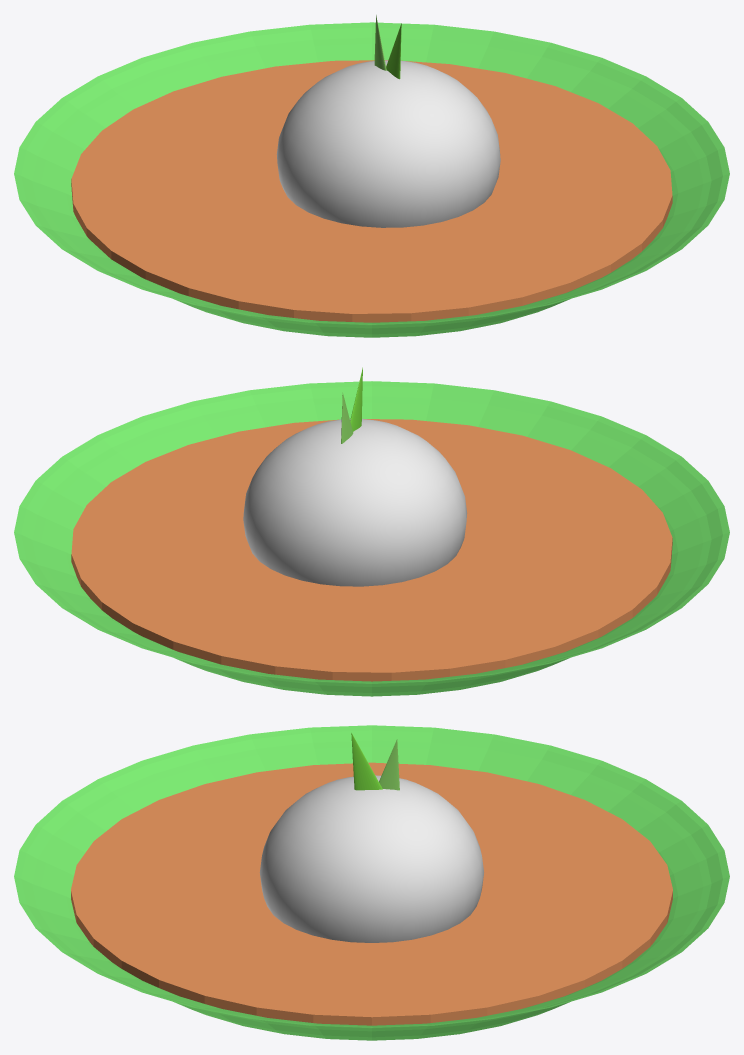
Rendered from ketan kinca.fbx.
3 renders of one model, top to bottom at view 1: azimuth 30°, elevation 25°; view 2: azimuth 150°, elevation 25°; view 3: azimuth 270°, elevation 25°, orthographic.
Visible parts, largest first — view 1: Cylinder.001, Cylinder, Sphere; view 2: Cylinder.001, Cylinder, Sphere; view 3: Cylinder.001, Cylinder, Sphere, Cone, Cone.001.
Part boxes in pixels (bbox=[...]): Cylinder.001: bbox=[71, 60, 672, 322]; Cylinder: bbox=[14, 22, 729, 337]; Sphere: bbox=[276, 60, 500, 227]; Cylinder.001: bbox=[71, 419, 672, 681]; Cylinder: bbox=[14, 381, 729, 696]; Sphere: bbox=[243, 419, 467, 586]; Cylinder.001: bbox=[71, 762, 672, 1025]; Cylinder: bbox=[14, 725, 729, 1040]; Sphere: bbox=[259, 775, 484, 942]; Cone: bbox=[351, 733, 382, 790]; Cone.001: bbox=[379, 739, 399, 790].
Bounding box in the file's own units: 231 × 80.71 × 231.
